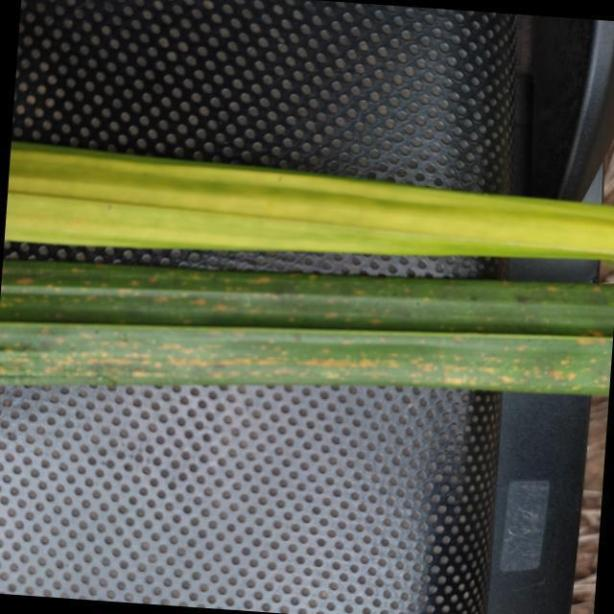nitrogen: (0, 252, 614, 391), (5, 144, 614, 259)
